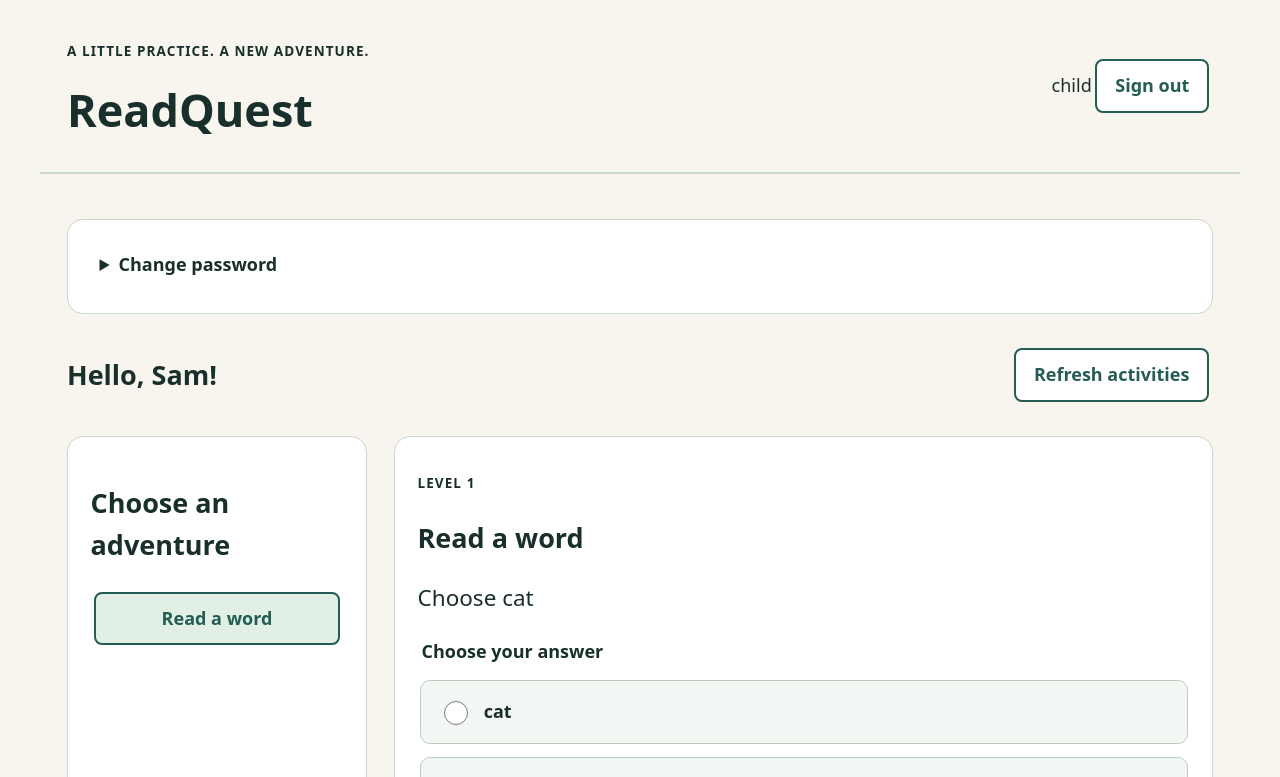
Test: logout returns to login
The width and height of the screenshot is (1280, 777).
Click the button "Sign out". click: (1152, 86)
box: [1095,59,1209,113]
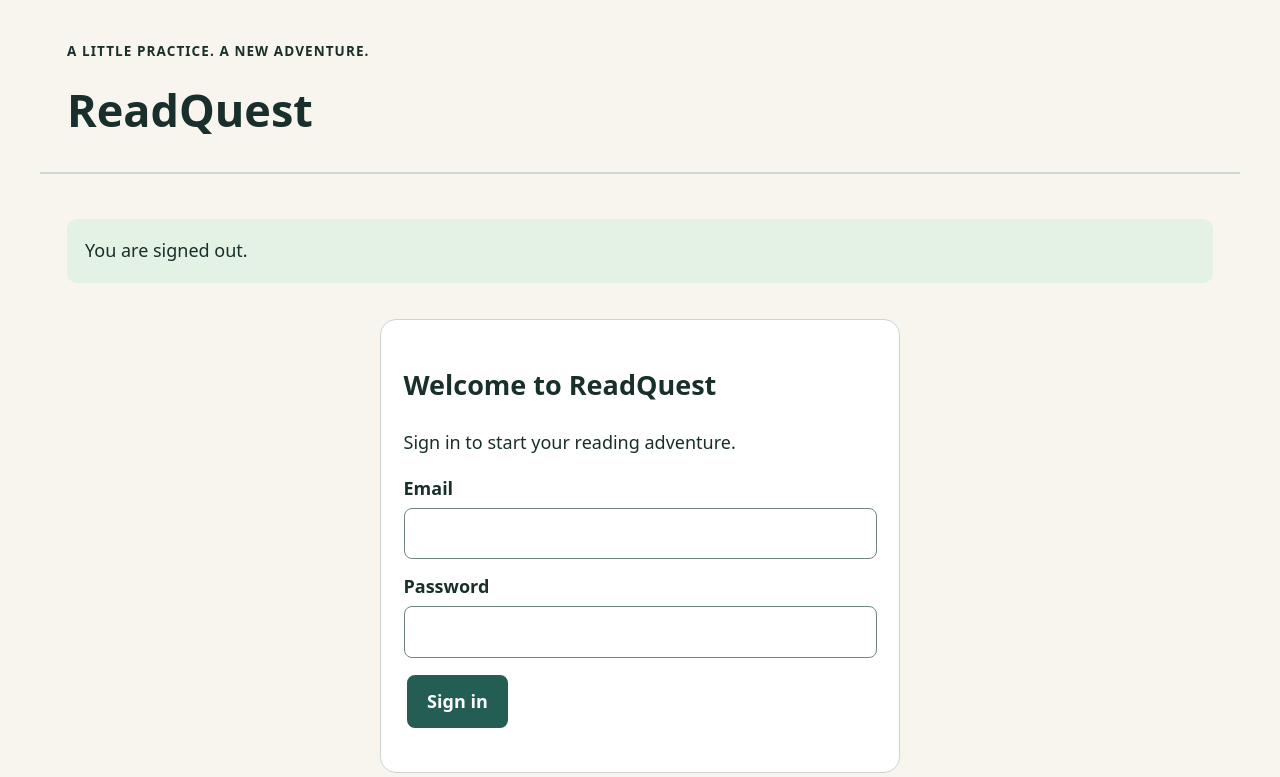
Result: the button "Sign in" is shown at [407,675,508,728]
